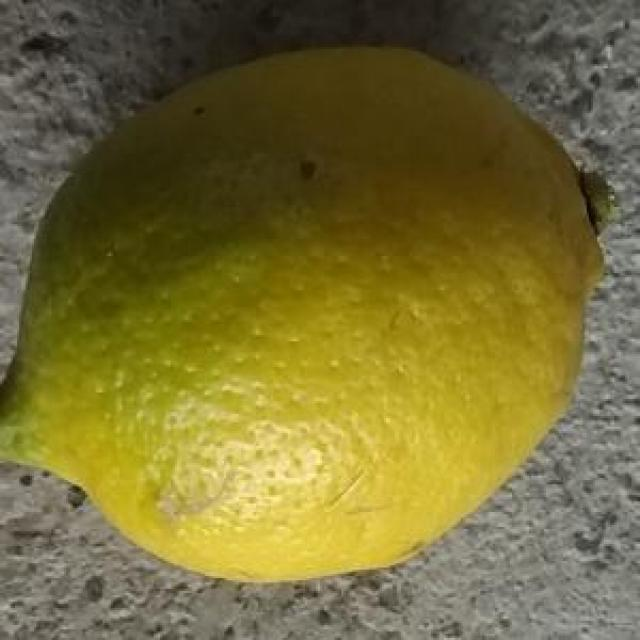lemon: (1, 34, 611, 586)
